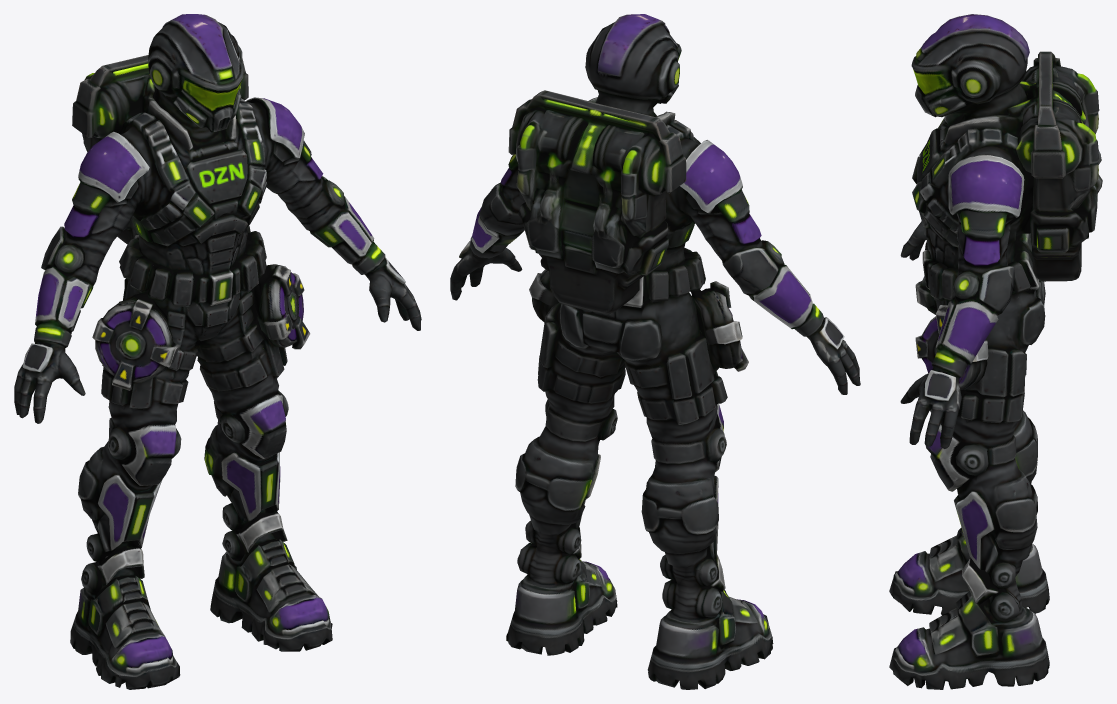
File: trapper_l02-static.glb
3 views of the same model, side by side, from view 1: azimuth 30°, elevation 25°; view 2: azimuth 150°, elevation 25°; view 3: azimuth 270°, elevation 25° (orthographic).
Visible parts, largest first — view 1: geometry_0; view 2: geometry_0; view 3: geometry_0.
Boxes of the visible parts, box(x1,y1,x2,y2) form: geometry_0: box(14, 14, 421, 689); geometry_0: box(450, 14, 860, 689); geometry_0: box(889, 14, 1102, 689).
Size of the model in its own units: 0.6411 by 0.9507 by 0.2974.
1 material, 1 textured.
